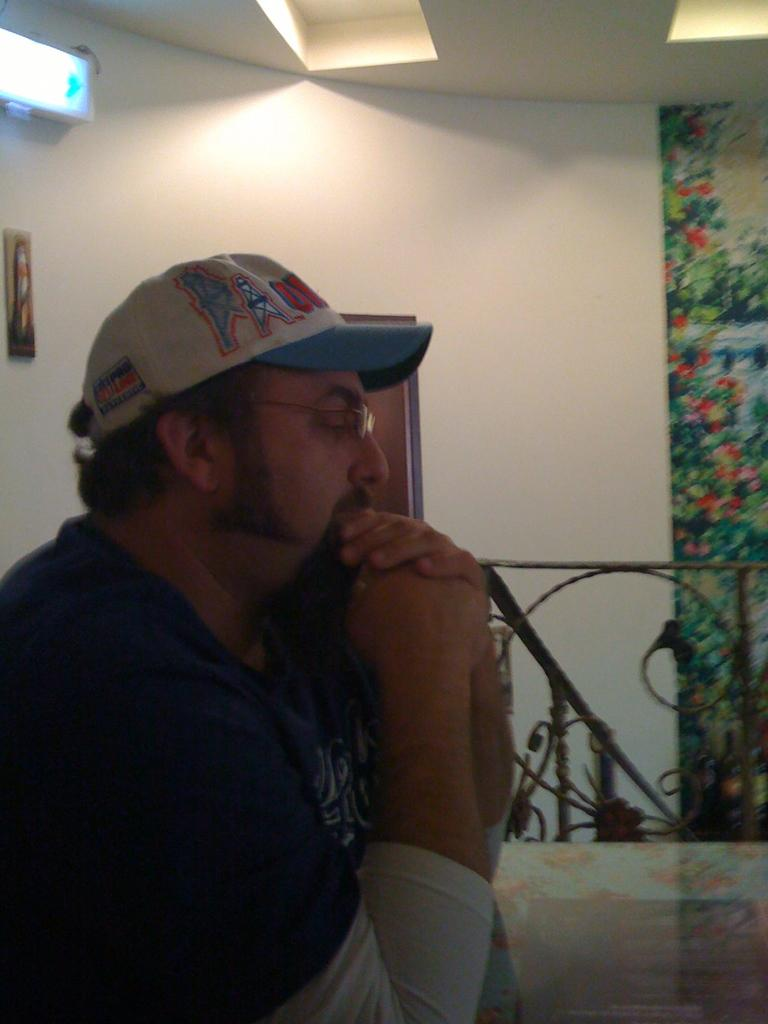Hat: (80, 251, 429, 440)
